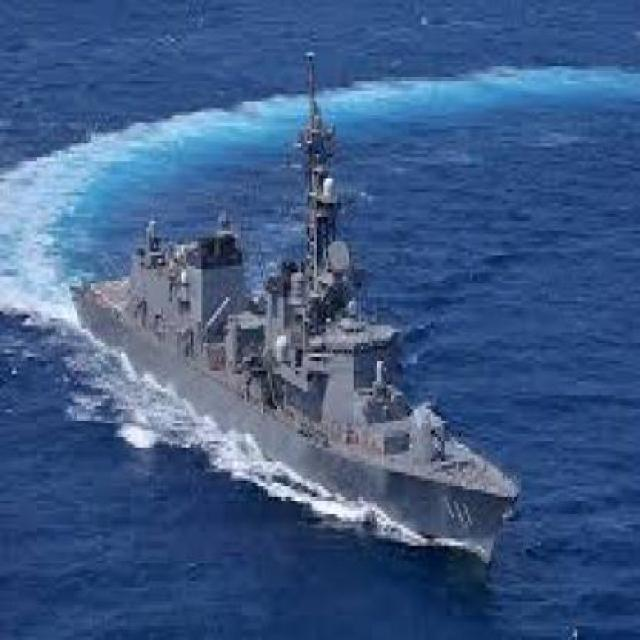warship2: (55, 42, 532, 575)
